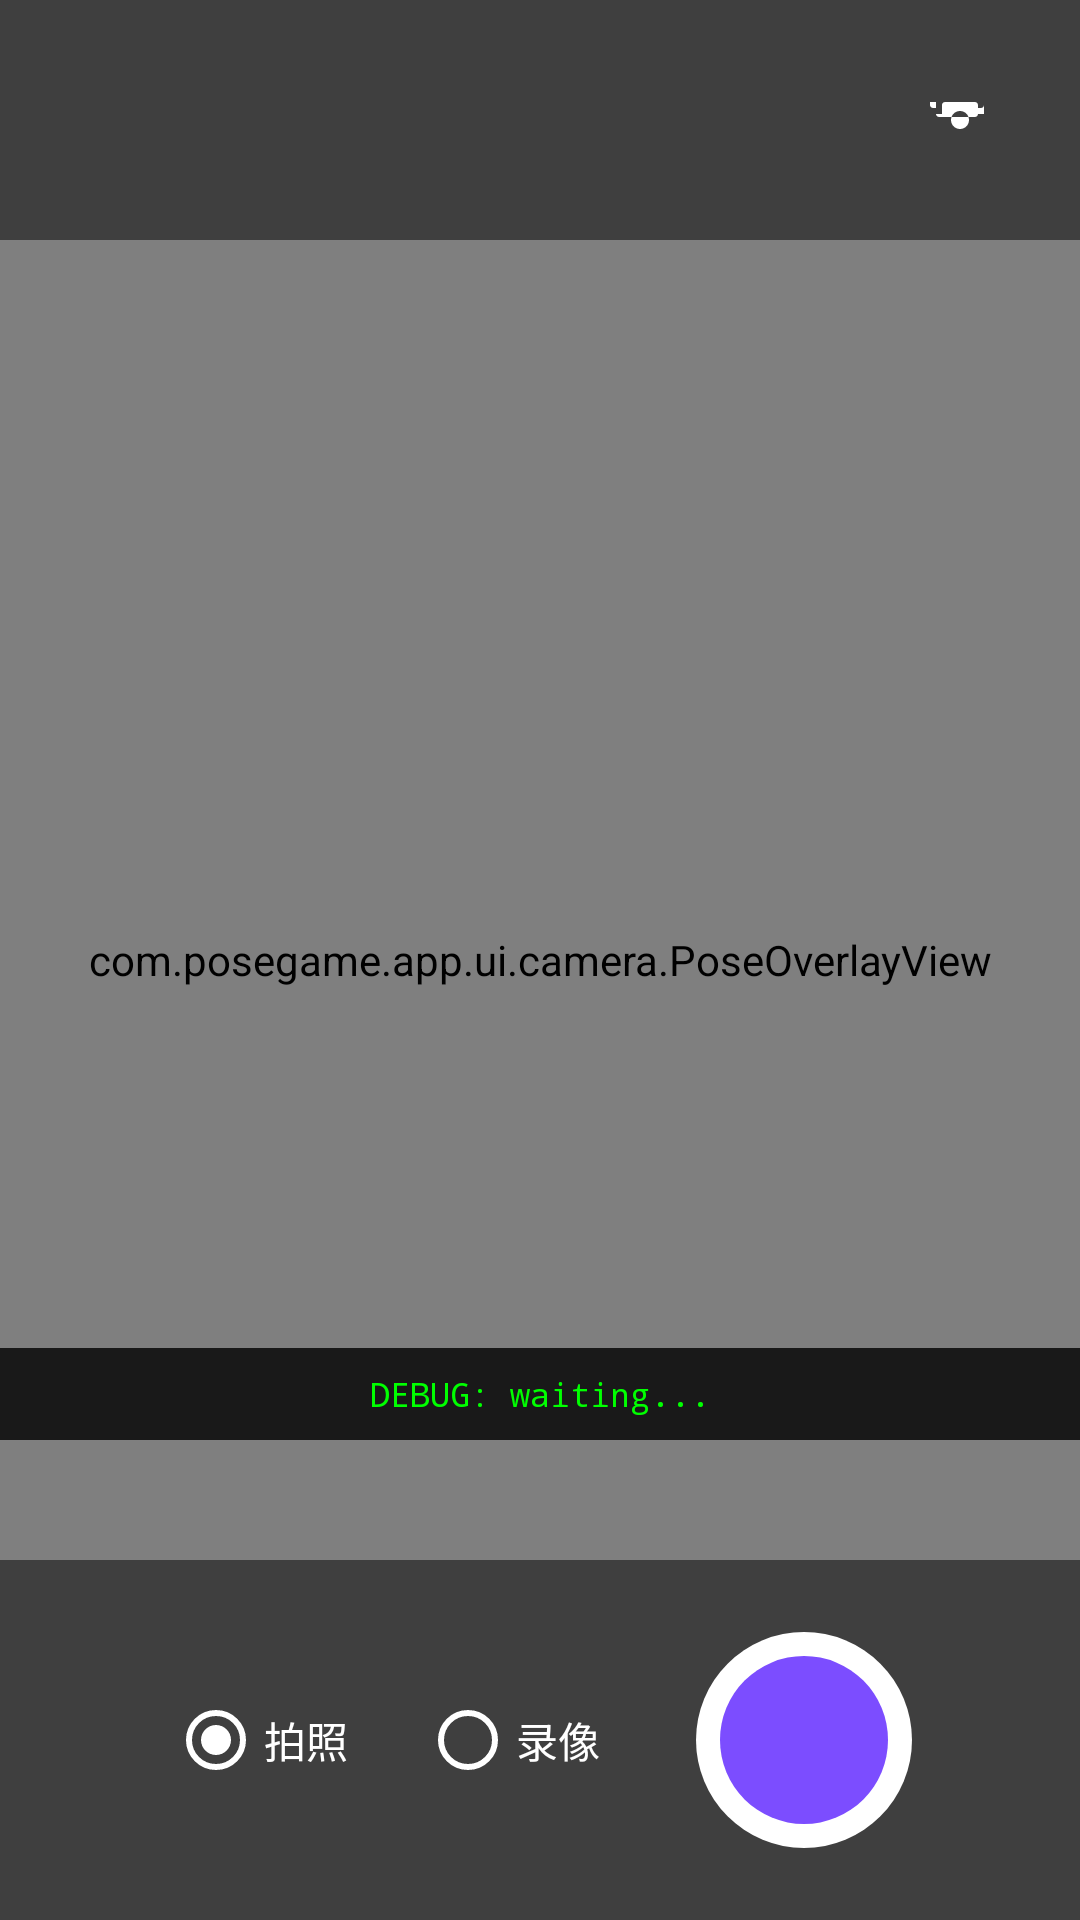

Screen size 1080x1920. Icon name, then its center in pixels as (x=x, y=y):
切换相机: (x=957, y=115)
